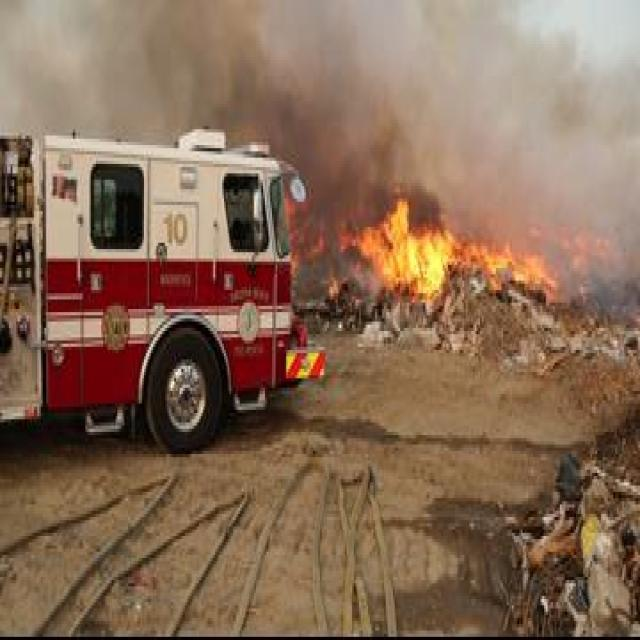Fire: (342, 194, 584, 309)
Smoke: (126, 0, 449, 252), (423, 0, 640, 296)
